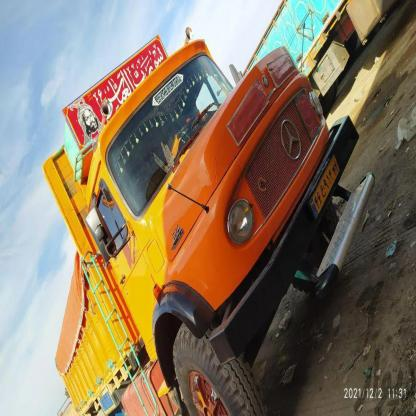Truck: (43, 17, 370, 416)
